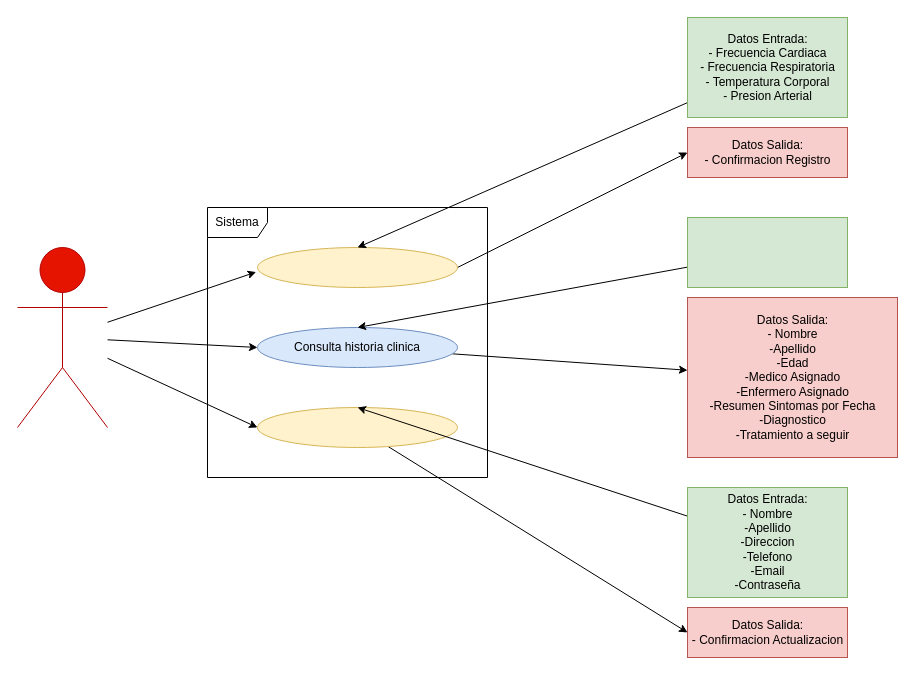
Image size: 915x675. Some labels were removed from this diagram. The centre of each missing label's shape, as x and y in pixels:
"Actualizar datos personales" goes at pixel 357 427.
"Datos Entrada: - ID Paciente" goes at pixel 767 252.
"Paciente" goes at pixel 62 337.
"Registrar signos vitales" goes at pixel 357 267.
